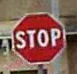stop: (9, 10, 66, 65)
